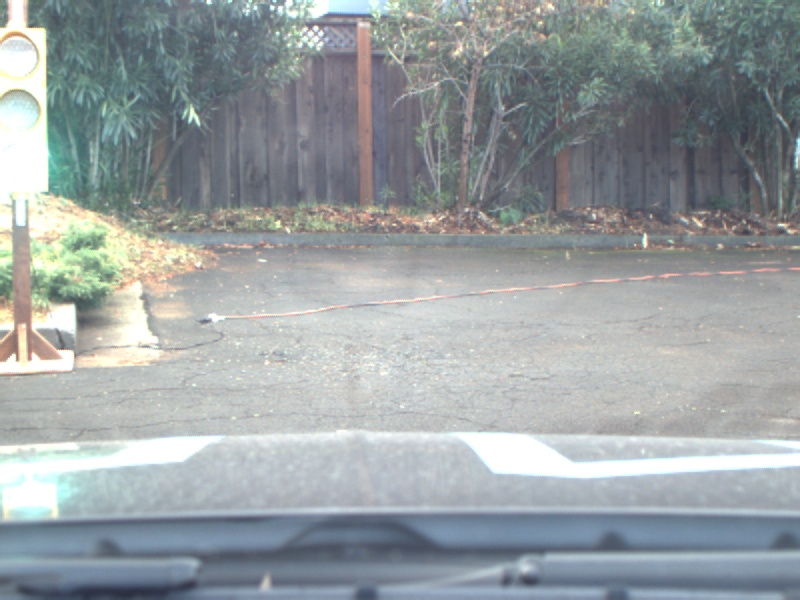Green: (1, 28, 47, 192)
